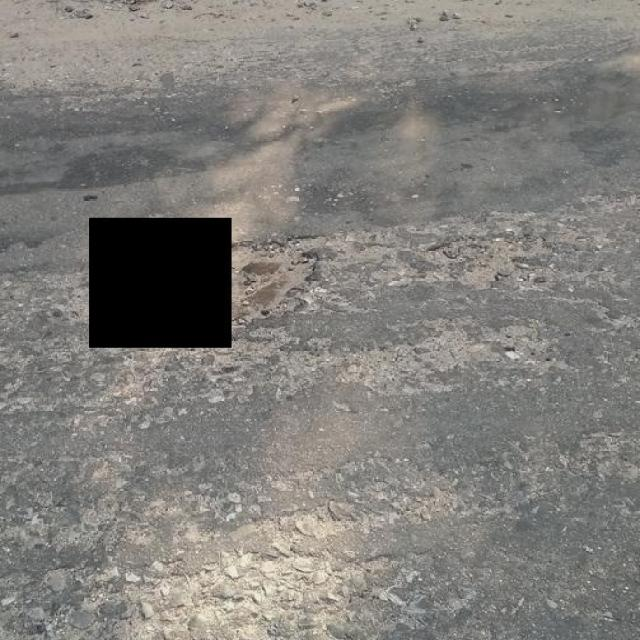road-pothole: (226, 202, 639, 339)
